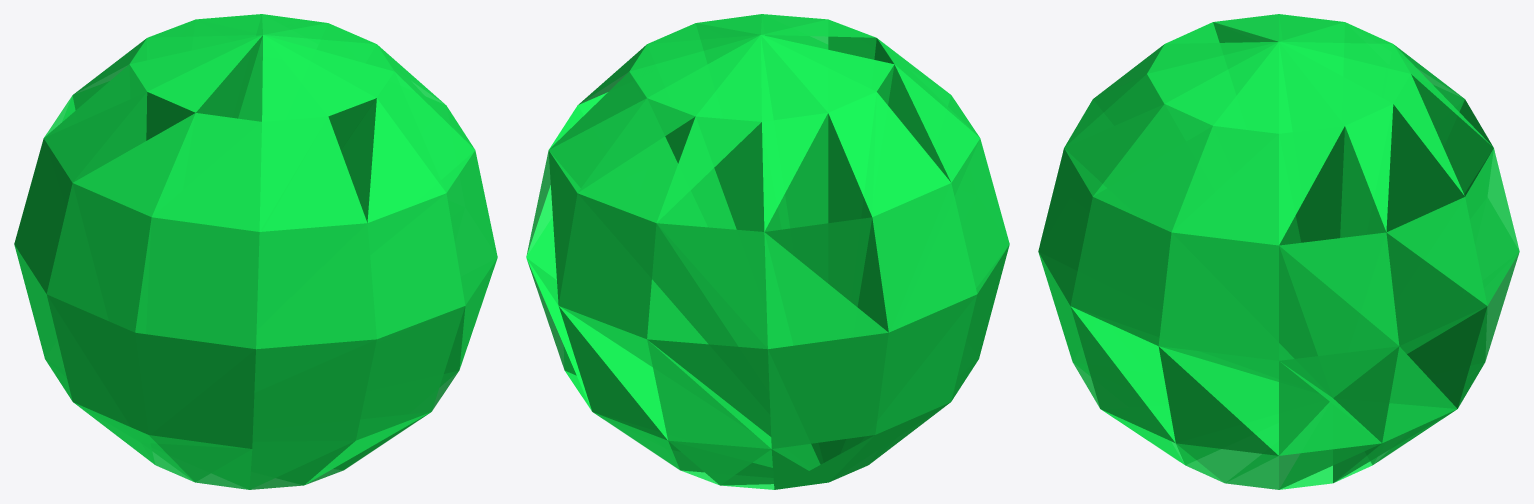
File: S.S._Dolphin_Bowsprit_1.obj
3 views of the same model, side by side, from view 1: azimuth 30°, elevation 25°; view 2: azimuth 150°, elevation 25°; view 3: azimuth 270°, elevation 25° (orthographic).
Visible parts, largest first — view 1: S.S._Dolphin_Bowsprit_1; view 2: S.S._Dolphin_Bowsprit_1; view 3: S.S._Dolphin_Bowsprit_1.
Part boxes in pixels (left/top/right/bottom): S.S._Dolphin_Bowsprit_1: left=14, top=14, right=497, bottom=489; S.S._Dolphin_Bowsprit_1: left=526, top=14, right=1009, bottom=489; S.S._Dolphin_Bowsprit_1: left=1038, top=14, right=1519, bottom=489.
Bounding box in the file's own units: 0.6058 × 0.5682 × 0.6062.
